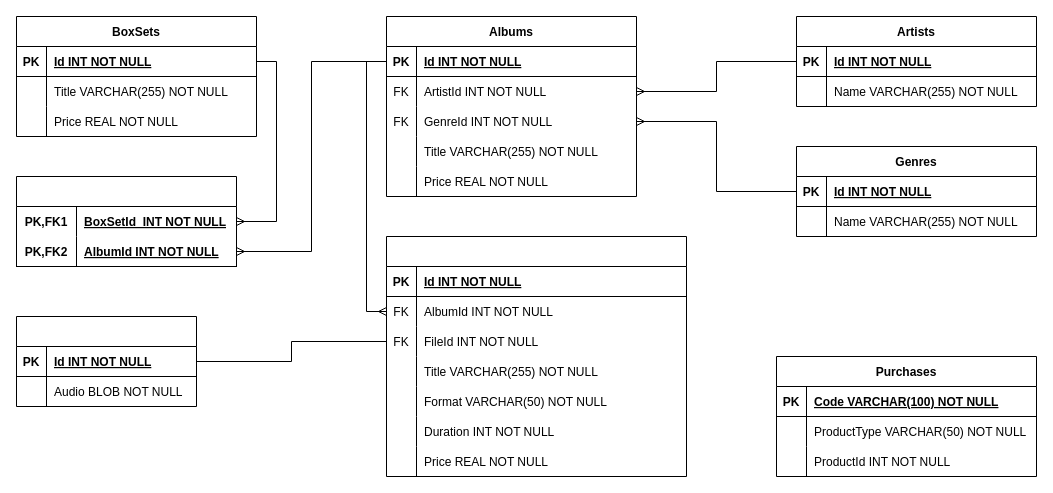
Image size: 1053x493. Some labels were removed from this diagram. Each missing label, with the box of its shape:
BoxSetsAlbums: (16, 176, 236, 266)
Files: (16, 316, 196, 406)
Songs: (386, 236, 686, 476)
